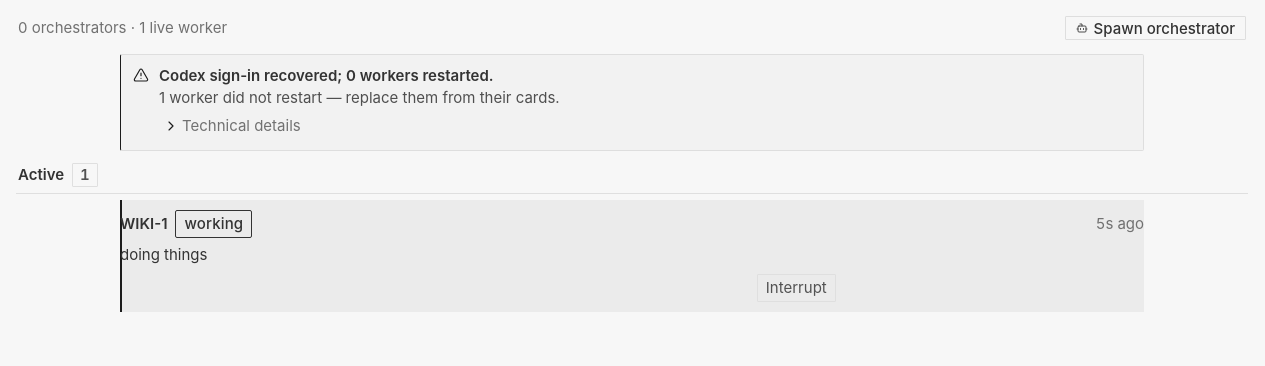
Test: codex_auth_dead_revival failures keep failed_reasons behind the details disclosure
Expected: the text "1 worker did not restart — replace them from their cards." is shown, [159,88,560,107]
Expected: the text "Errno 24" is not shown
Click the button "Technical details" at (232, 125), box [159,111,305,139]
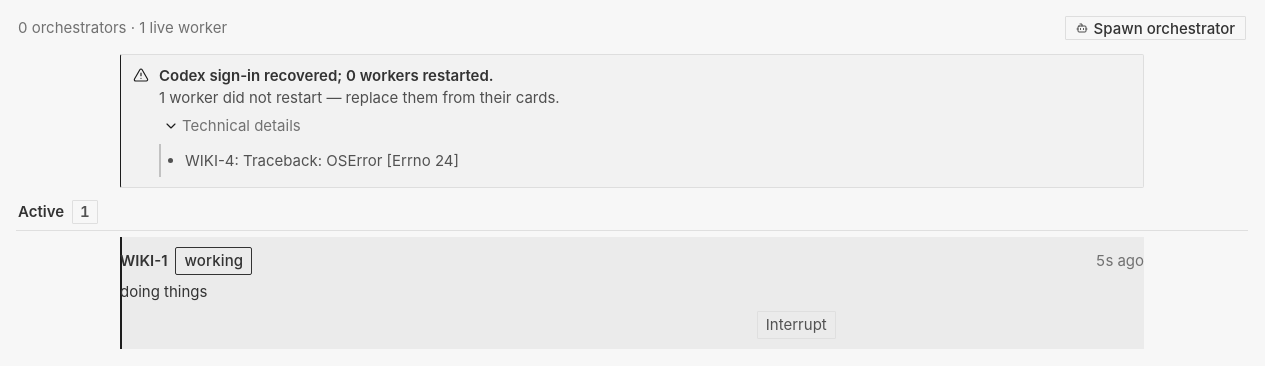
Result: the list item "WIKI-4: Traceback: OSError [Errno 24]" is shown at [185,151,459,170]
